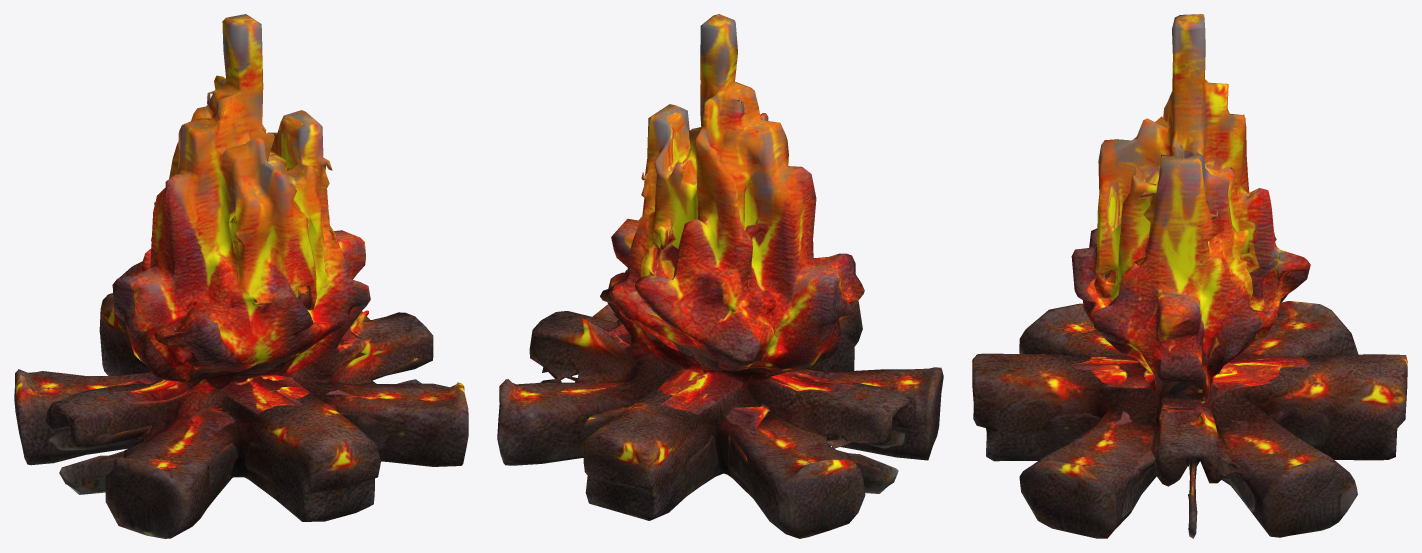
Rendered from bonfire.glb.
3 renders of one model, left to right at view 1: azimuth 30°, elevation 25°; view 2: azimuth 150°, elevation 25°; view 3: azimuth 270°, elevation 25°, orthographic.
Visible parts, largest first — view 1: mesh; view 2: mesh; view 3: mesh.
Part boxes in pixels (left/top/right/bottom): mesh: left=14, top=14, right=468, bottom=538; mesh: left=497, top=14, right=943, bottom=538; mesh: left=972, top=14, right=1407, bottom=538.
Bounding box in the file's own units: 0.8702 × 1 × 0.8864.
Materials: 1 (1 with a texture image).
